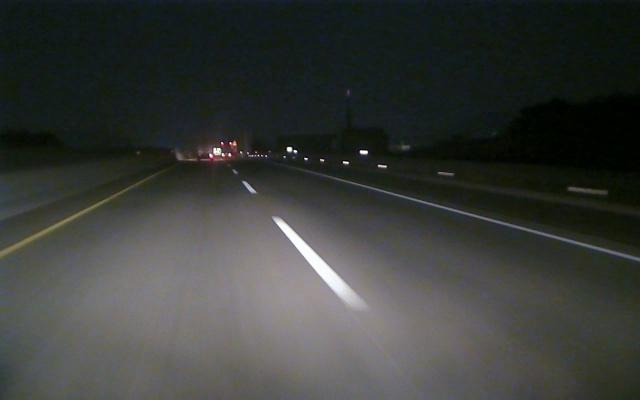lane: (312, 172, 638, 261), (239, 179, 372, 314), (0, 175, 154, 259)
